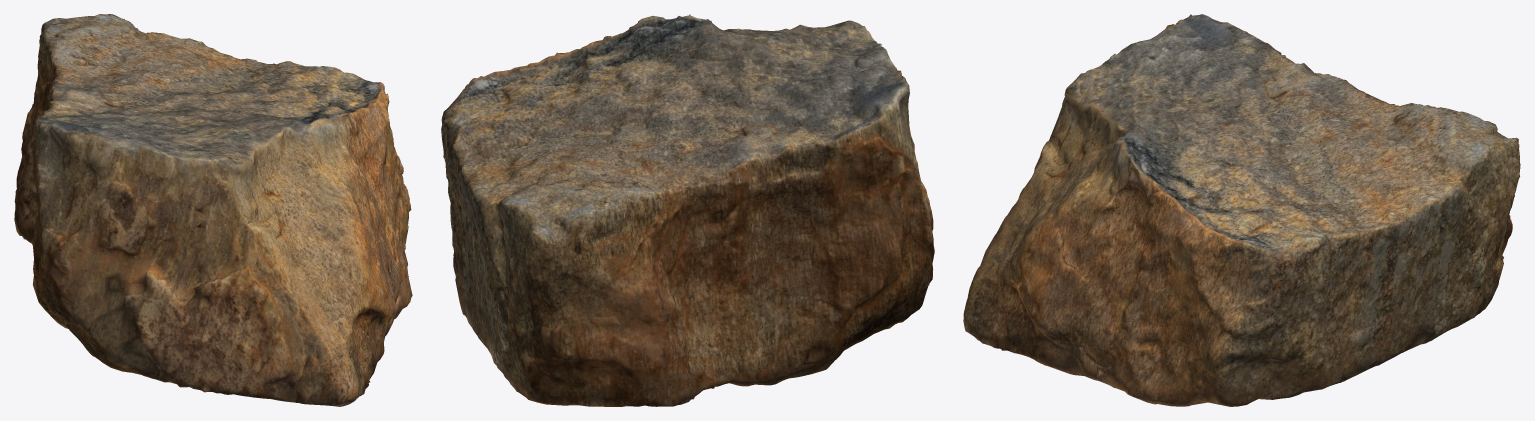
The model's file is rock_02.glb.
3 views of the same model, side by side, from view 1: azimuth 30°, elevation 25°; view 2: azimuth 150°, elevation 25°; view 3: azimuth 270°, elevation 25° (orthographic). The views are drawn at different scales.
Parts seen in each view (by area): view 1: boulder_03_LOD0; view 2: boulder_03_LOD0; view 3: boulder_03_LOD0.
Boxes of the visible parts, x1,y1,x2,y2 form: boulder_03_LOD0: [14, 14, 412, 406]; boulder_03_LOD0: [441, 14, 934, 406]; boulder_03_LOD0: [963, 14, 1520, 406].
Size of the model in its own units: 2.41 by 1.47 by 3.07.
Materials: 1 (1 with a texture image).
